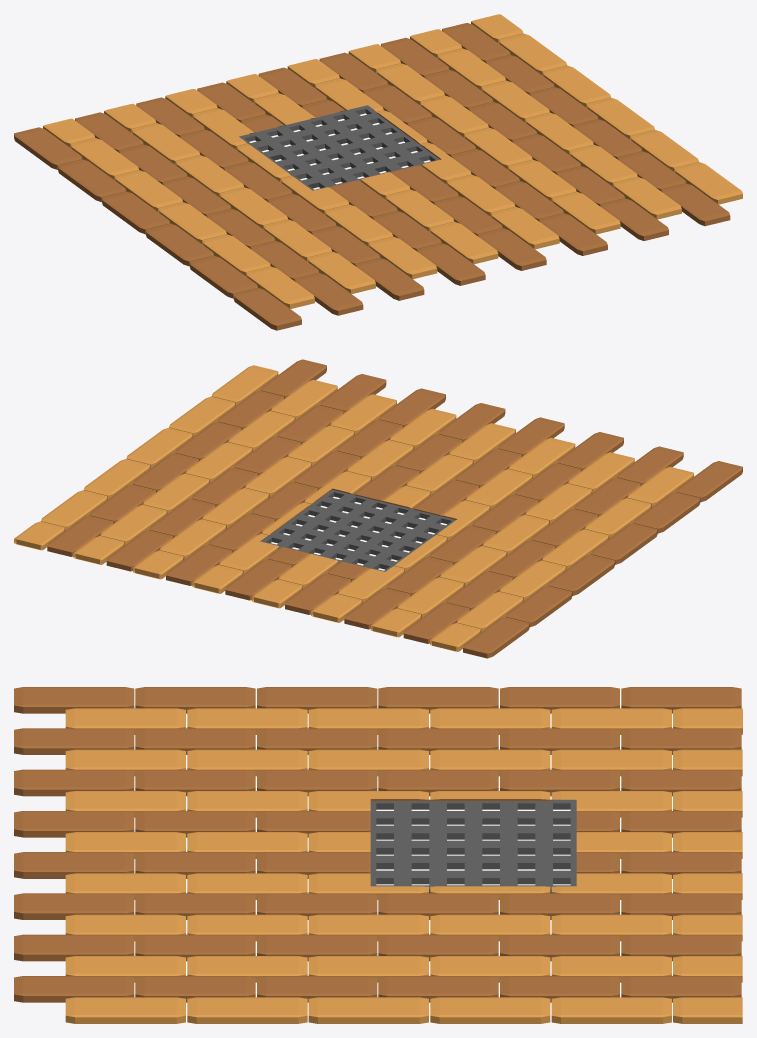
Rendered from Grating WithFloor.glb.
3 views of the same model, one above another, from view 1: azimuth 30°, elevation 25°; view 2: azimuth 150°, elevation 25°; view 3: azimuth 270°, elevation 25° (orthographic). The views are drawn at different scales.
Visible parts, largest first — view 1: Cube.123; view 2: Cube.123; view 3: Cube.123.
Part boxes in pixels (x1=…): Cube.123: x1=14, y1=14, x2=742, y2=330; Cube.123: x1=14, y1=359, x2=742, y2=658; Cube.123: x1=14, y1=687, x2=742, y2=1023.
Size of the model in its own units: 29.42 by 0.3436 by 27.45.
